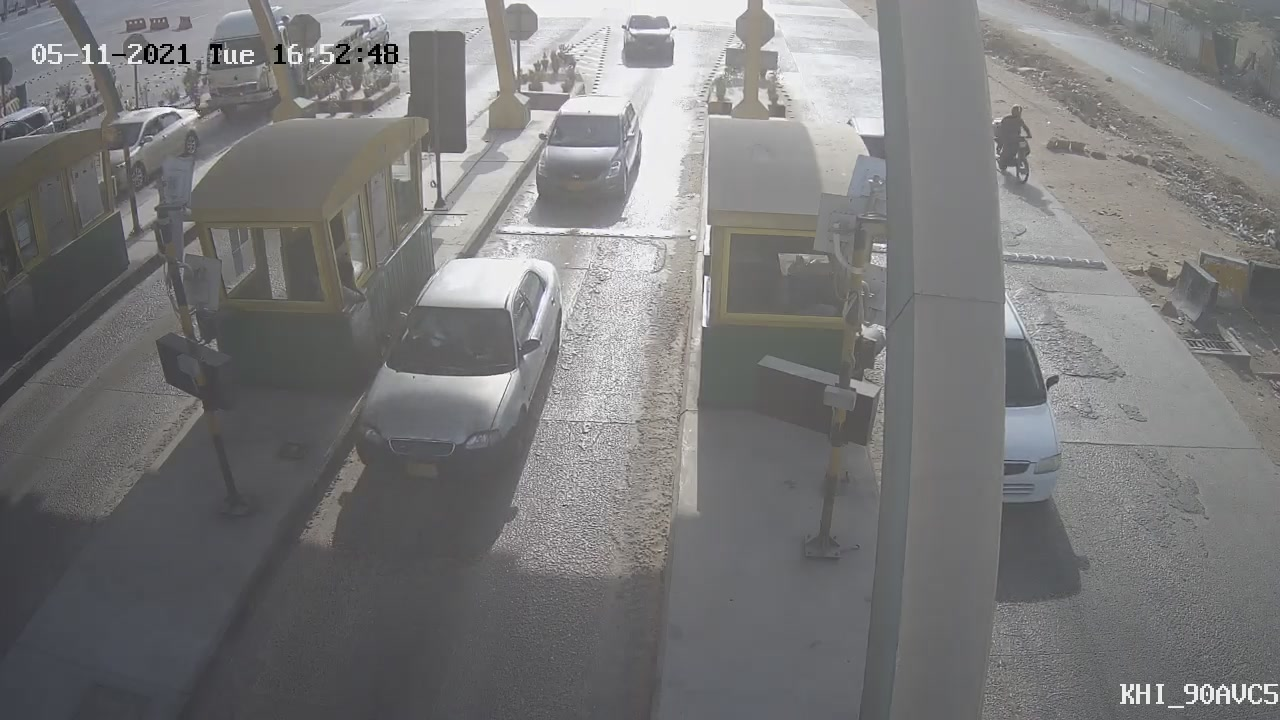F1: (330, 234, 581, 514), (521, 78, 655, 233)
